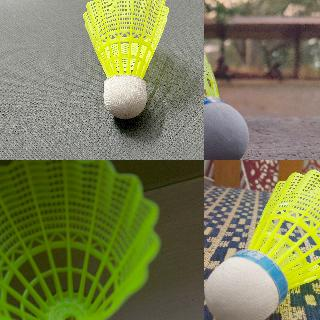shuttlecock: (0, 160, 160, 319), (205, 169, 319, 319), (82, 0, 169, 119), (204, 31, 248, 159)
